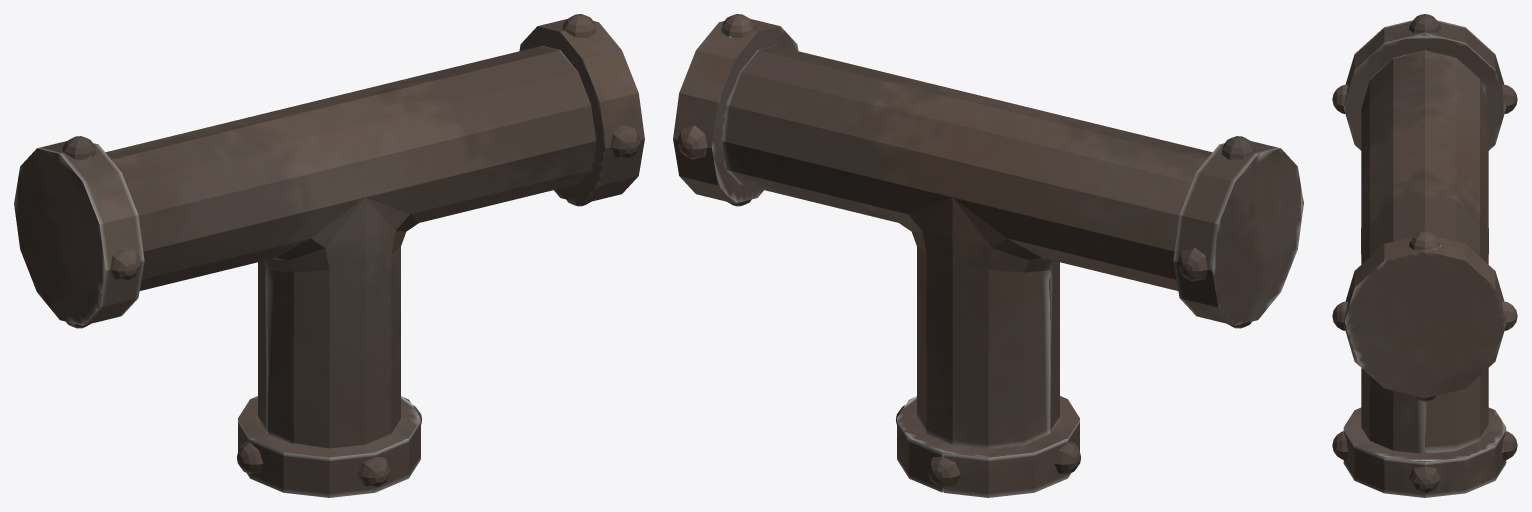
The model's file is TuberiaT.fbx.
3 renders of one model, left to right at view 1: azimuth 30°, elevation 25°; view 2: azimuth 150°, elevation 25°; view 3: azimuth 270°, elevation 25°, orthographic. The views are drawn at different scales.
Visible parts, largest first — view 1: TuberiaT; view 2: TuberiaT; view 3: TuberiaT.
Boxes of the visible parts, box(x1,y1,x2,y2) form: TuberiaT: box(14, 14, 644, 497); TuberiaT: box(673, 14, 1303, 497); TuberiaT: box(1332, 14, 1517, 497).
Size of the model in its own units: 194 by 132 by 65.04.
